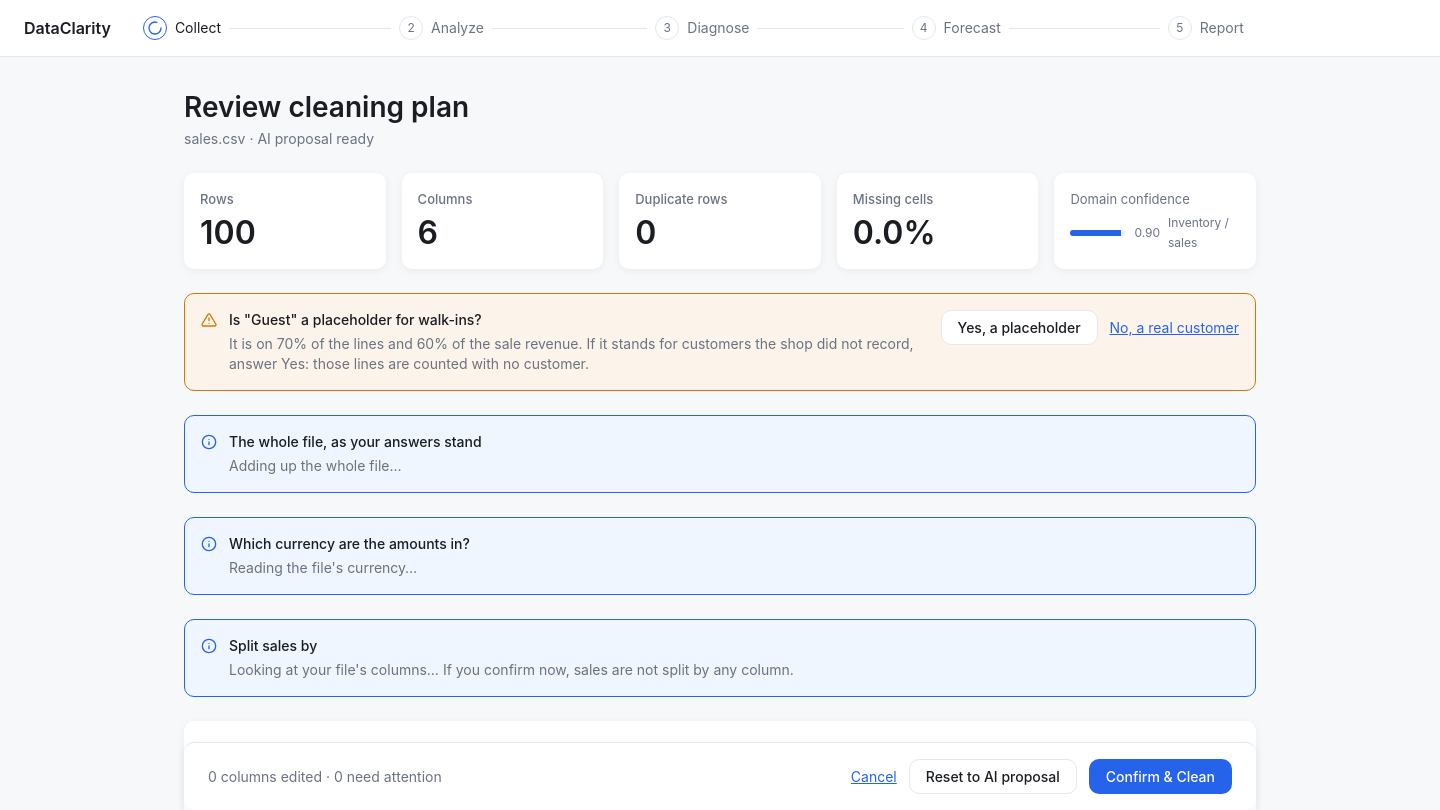
Scenario: ReviewPage: walk-in placeholders (2E-k) › asks the receipt question once a placeholder leaves most receipts unnamed (mutation check M12)
Expected: the text "Is \"Inv\" a receipt number?" is not shown
Click the button "Yes, a placeholder".
click(1019, 328)  # box [941, 310, 1098, 345]
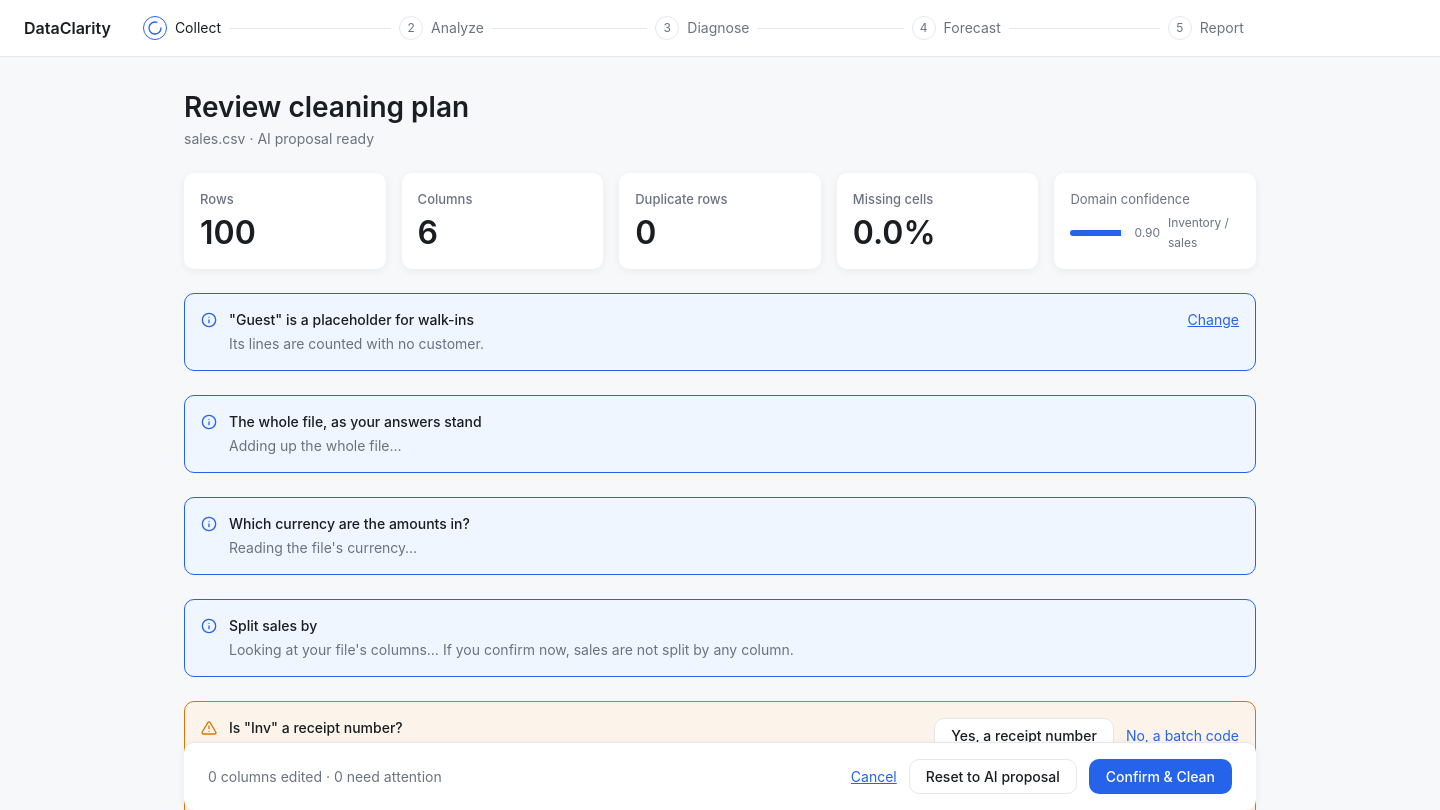
Expected: the text "Is \"Inv\" a receipt number?" is shown, [229, 719, 403, 736]
